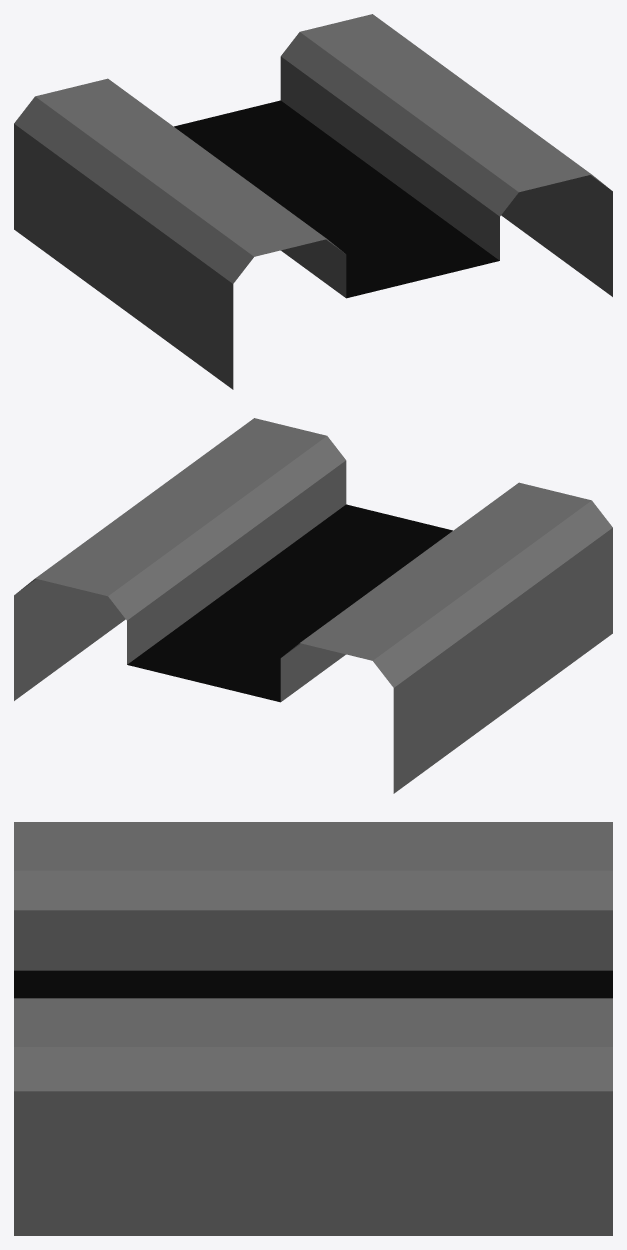
Rendered from mesh_Spaceship_Rail.fbx.
3 views of the same model, one above another, from view 1: azimuth 30°, elevation 25°; view 2: azimuth 150°, elevation 25°; view 3: azimuth 270°, elevation 25° (orthographic). The views are drawn at different scales.
Visible parts, largest first — view 1: mesh_Spaceship_Rail; view 2: mesh_Spaceship_Rail; view 3: mesh_Spaceship_Rail.
Part boxes in pixels (left/top/right/bottom): mesh_Spaceship_Rail: left=14, top=14, right=612, bottom=389; mesh_Spaceship_Rail: left=14, top=418, right=612, bottom=793; mesh_Spaceship_Rail: left=14, top=822, right=612, bottom=1235.
Size of the model in its own units: 0.6007 by 0.1934 by 0.6007.
